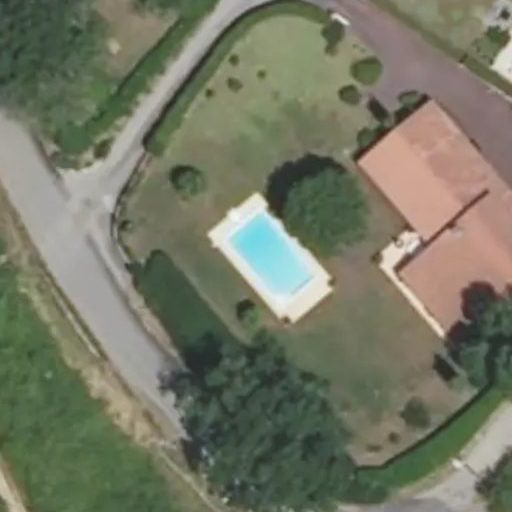pool: (204, 220, 307, 263)
